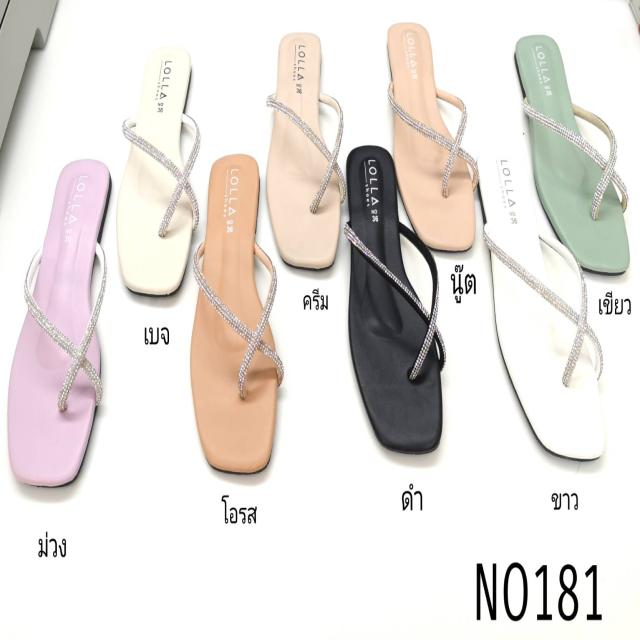bej: (113, 51, 196, 295)
black: (348, 150, 444, 456)
cream: (272, 31, 342, 275)
green: (516, 33, 634, 277)
nood: (386, 13, 474, 253)
orot: (203, 156, 278, 470)
purple: (9, 172, 106, 482)
white: (479, 152, 606, 464)
